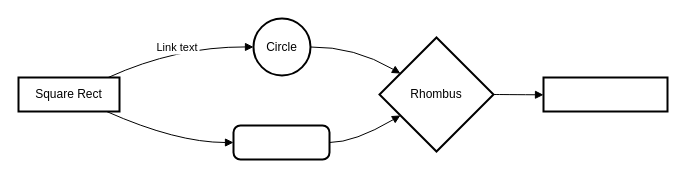
Some shapes in this 685 by 177 pixel diagram are drawn without their labels. The centre of each missing label's shape, as x and y in pixels:
"Positioned Text" belongs at pixel 605 94.
"Round Rect" belongs at pixel 281 142.
